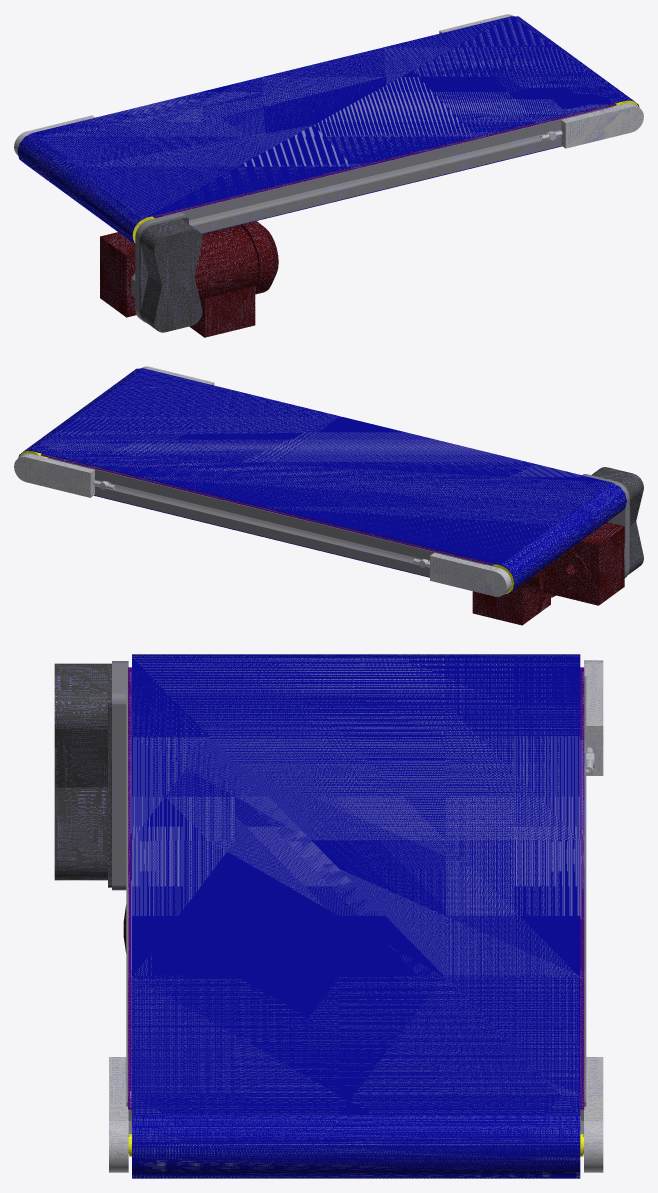
3 views of the same model, one above another, from view 1: azimuth 30°, elevation 25°; view 2: azimuth 150°, elevation 25°; view 3: azimuth 270°, elevation 25° (orthographic). The views are drawn at different scales.
Parts seen in each view (by area): view 1: Robotunits_C5N_0400_S_A_N_1000_0_270__0_ (×8); view 2: Robotunits_C5N_0400_S_A_N_1000_0_270__0_ (×9); view 3: Robotunits_C5N_0400_S_A_N_1000_0_270__0_ (×8).
Part boxes in pixels (x1,y1,x2,y2): Robotunits_C5N_0400_S_A_N_1000_0_270__0_ (×8): (17,16,643,337); Robotunits_C5N_0400_S_A_N_1000_0_270__0_ (×9): (14,368,643,625); Robotunits_C5N_0400_S_A_N_1000_0_270__0_ (×8): (54,654,603,1178).
Bounding box in the file's own units: 1003 × 478 × 258.
